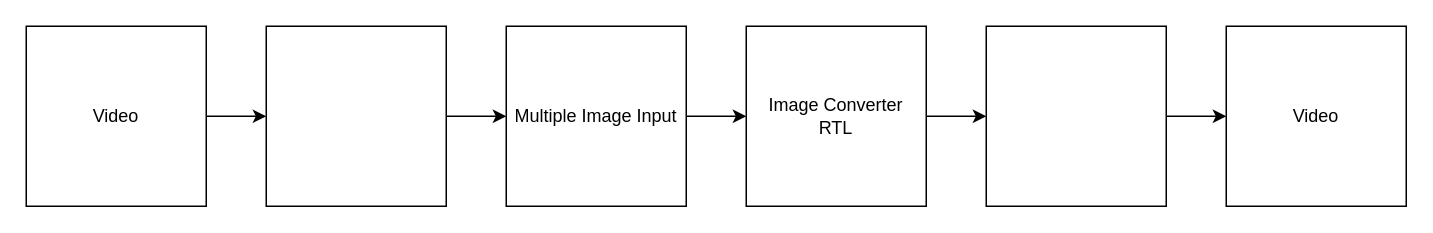
The diagram is 1433 pixels wide and 233 high, and some of its shapes have lost their labels. The box of each missing label's shape, as (x1, y1, x2, y2) in pixels:
Multiple Image Output: (985, 25, 1166, 206)
Split to Image: (265, 25, 446, 206)
